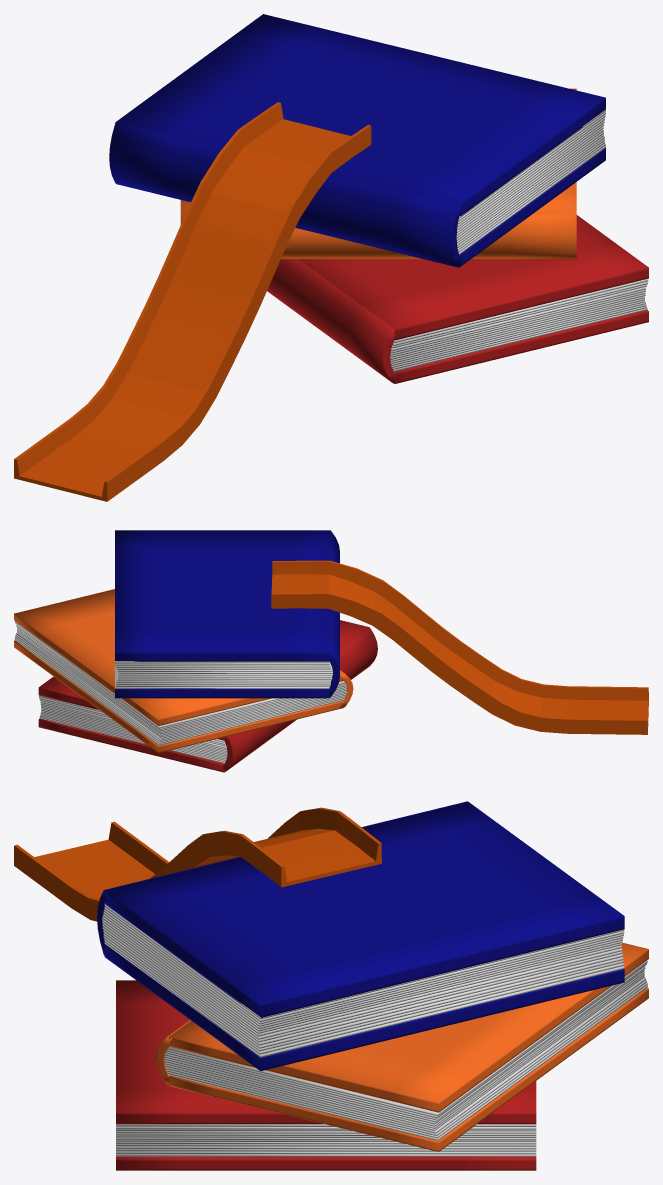
File: book_track.obj
The picture shows the model from 3 angles, top to bottom: view 1: azimuth 30°, elevation 25°; view 2: azimuth 150°, elevation 25°; view 3: azimuth 270°, elevation 25°; orthographic projection. The views are drawn at different scales.
Visible parts, largest first — view 1: Book_Case, Cube_Cube.001, Cube.002_Cube.003, Cube.005_Cube.006, Cube.003_Cube.004, Cube.004_Cube.005; view 2: Book_Case, Cube_Cube.001, Cube.002_Cube.003, Cube.004_Cube.005, Cube.005_Cube.006, Cube.003_Cube.004; view 3: Book_Case, Cube.002_Cube.003, Cube.004_Cube.005, Cube.005_Cube.006, Cube_Cube.001.
Boxes of the visible parts, x1=… form: Book_Case: x1=109, y1=14, x2=648, y2=383; Cube_Cube.001: x1=117, y1=182, x2=300, y2=396; Cube.002_Cube.003: x1=14, y1=404, x2=182, y2=501; Cube.005_Cube.006: x1=200, y1=130, x2=331, y2=217; Cube.003_Cube.004: x1=88, y1=362, x2=216, y2=444; Cube.004_Cube.005: x1=238, y1=102, x2=371, y2=172; Book_Case: x1=14, y1=530, x2=377, y2=772; Cube_Cube.001: x1=372, y1=580, x2=501, y2=713; Cube.002_Cube.003: x1=540, y1=684, x2=648, y2=734; Cube.004_Cube.005: x1=271, y1=560, x2=329, y2=608; Cube.005_Cube.006: x1=328, y1=560, x2=383, y2=625; Cube.003_Cube.004: x1=492, y1=669, x2=543, y2=731; Book_Case: x1=97, y1=801, x2=648, y2=1170; Cube.002_Cube.003: x1=14, y1=821, x2=169, y2=919; Cube.004_Cube.005: x1=240, y1=811, x2=381, y2=887; Cube.005_Cube.006: x1=202, y1=807, x2=339, y2=856; Cube_Cube.001: x1=150, y1=811, x2=302, y2=878.
Bounding box in the file's own units: 11.42 × 2.9 × 8.27.
